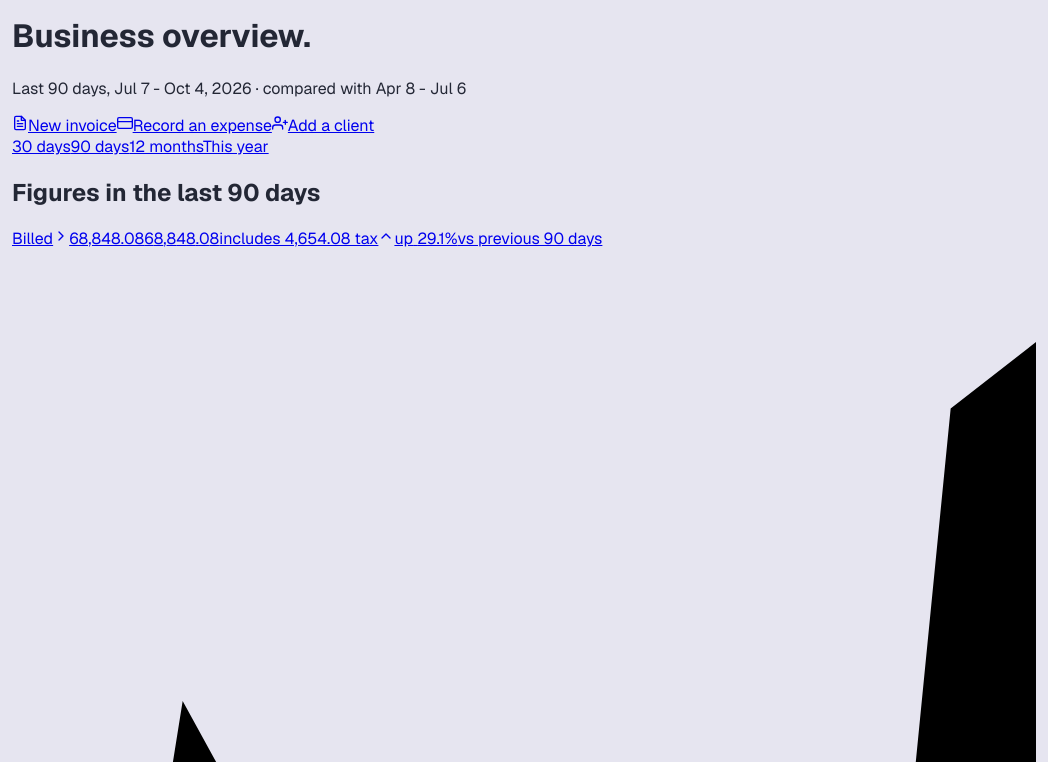
dims old figures while loading
Expected: the heading "Figures in the last 90 days" is shown, [12,177,321,208]
Click the link "30 days": (41, 146) [12,136,71,157]
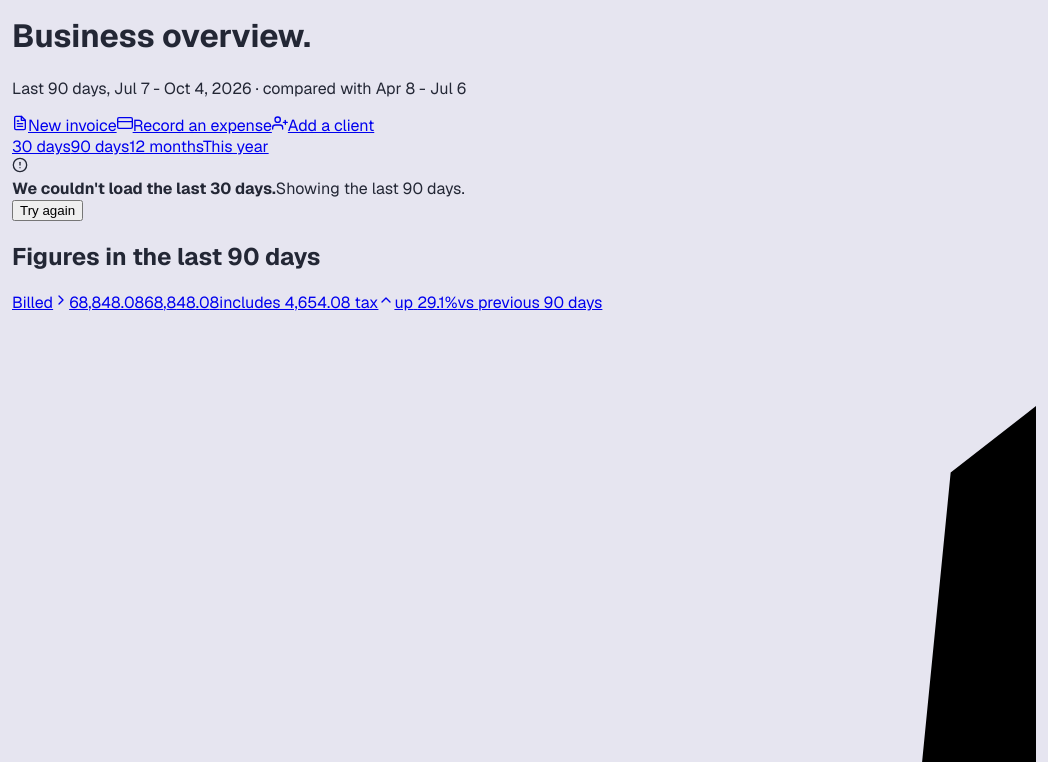
Expected: the text "Last 90 days, Jul 7 - Oct 4, 2026 · compared with Apr 8 - Jul 6" is shown, [12,78,466,99]
Now the message "We couldn't load the last 30 days.Showing the last 90 days. Try again" is shown, box [12,157,465,221]
Click the button "Try again": (48, 210) [12,200,83,221]
(page scrolled)
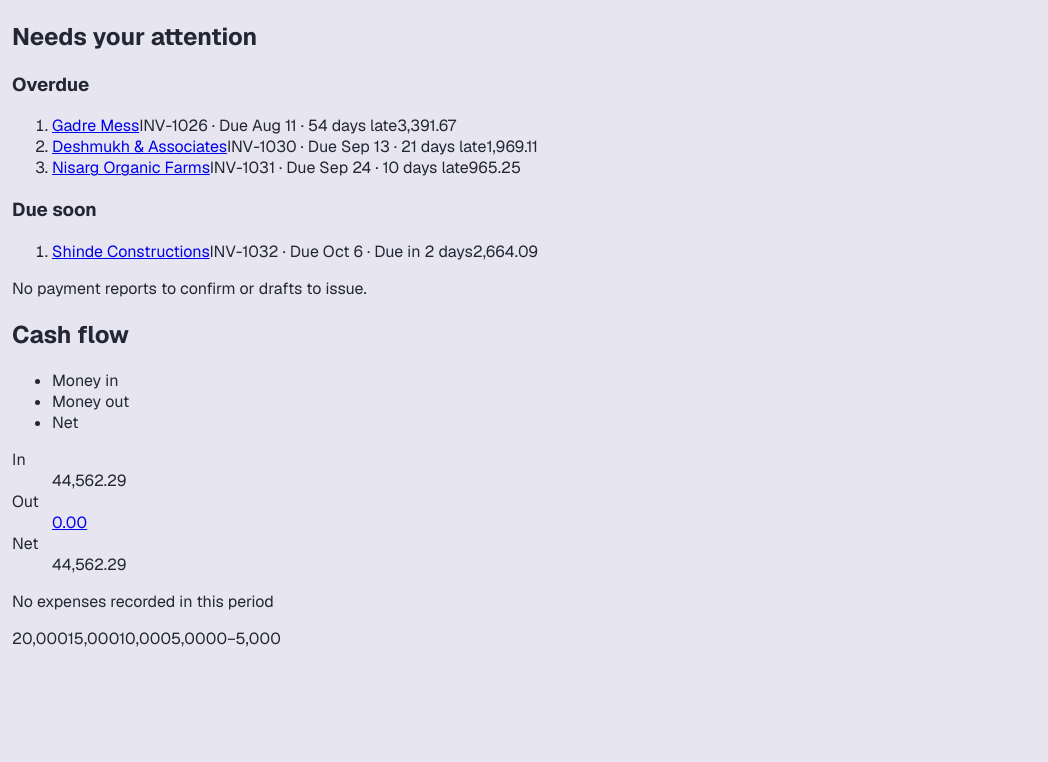
Now the message "We couldn't load the last 30 days.Showing the last 90 days. Try again" is gone
